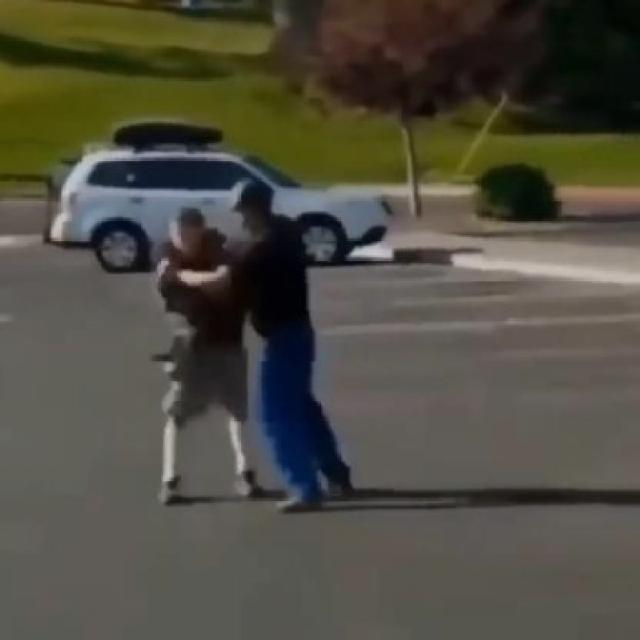fight: (150, 161, 355, 511)
